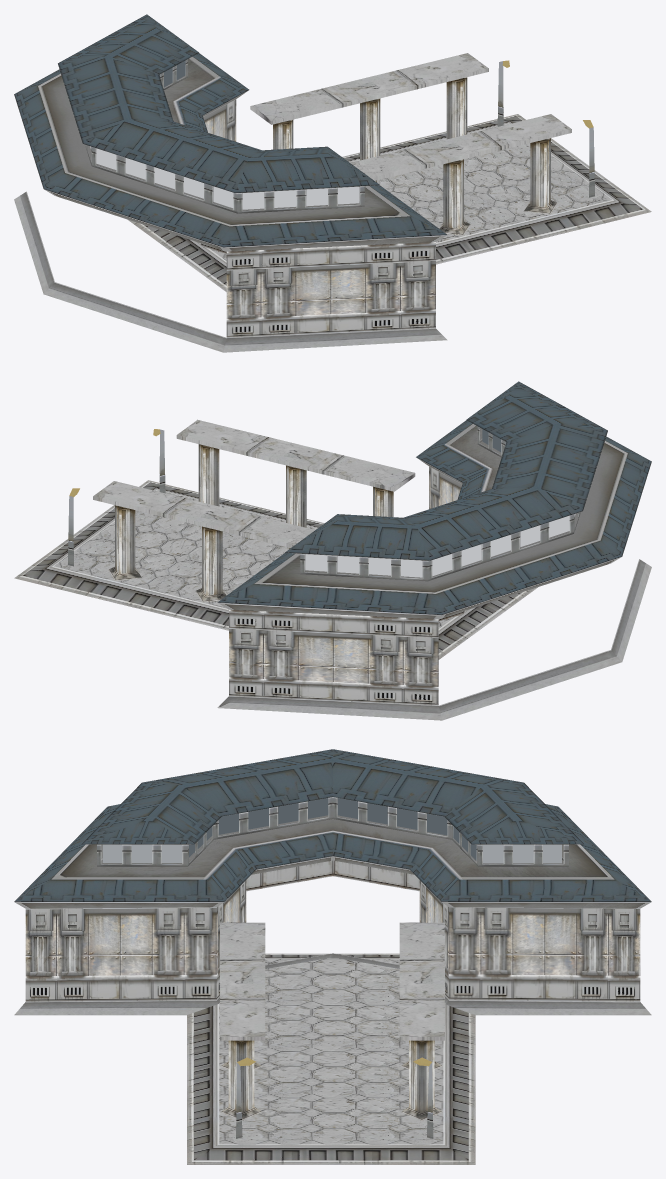
The model's file is s_quetragon_hdtex.glb.
The picture shows the model from 3 angles, top to bottom: view 1: azimuth 30°, elevation 25°; view 2: azimuth 150°, elevation 25°; view 3: azimuth 270°, elevation 25°; orthographic projection. The views are drawn at different scales.
Parts seen in each view (by area): view 1: S_Quetragon, LitWin_S_Quetragon; view 2: S_Quetragon, LitWin_S_Quetragon; view 3: S_Quetragon, LitWin_S_Quetragon.
Part boxes in pixels (box(x1,y1,x2,y2)): S_Quetragon: box(14, 14, 651, 352); LitWin_S_Quetragon: box(90, 60, 359, 209); S_Quetragon: box(14, 381, 651, 720); LitWin_S_Quetragon: box(305, 429, 575, 577); S_Quetragon: box(14, 749, 651, 1164); LitWin_S_Quetragon: box(102, 798, 561, 863).
Bounding box in the file's own units: 37.32 × 10.17 × 35.37.
7 materials, 7 textured.
